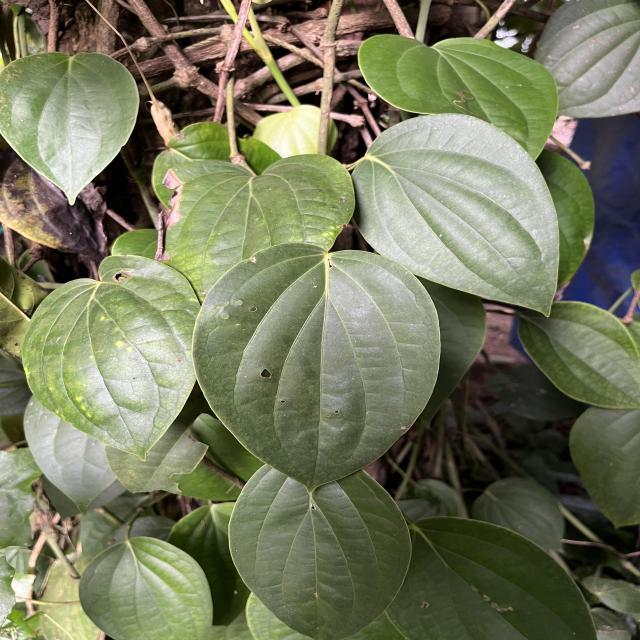Piper nigrum: (191, 241, 442, 496), (352, 112, 562, 320), (224, 467, 413, 640), (0, 50, 142, 206)
